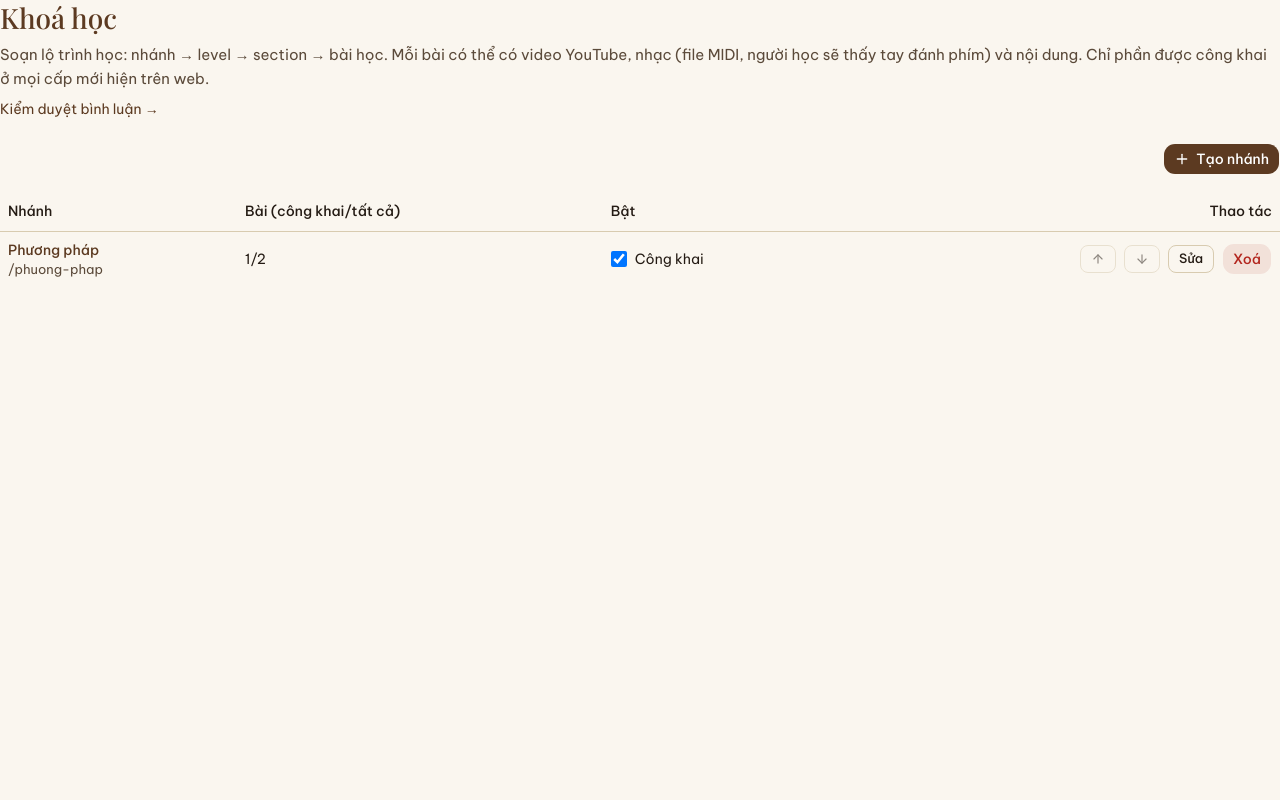
Scenario: Trang /courses (danh sách nhánh) › thiếu tên: lỗi tại trường, không gọi API; xoá nhánh còn level hiện thông báo 409 từ API
Click the button "Tạo nhánh". click: (1222, 159)
box: [1163,143,1279,175]
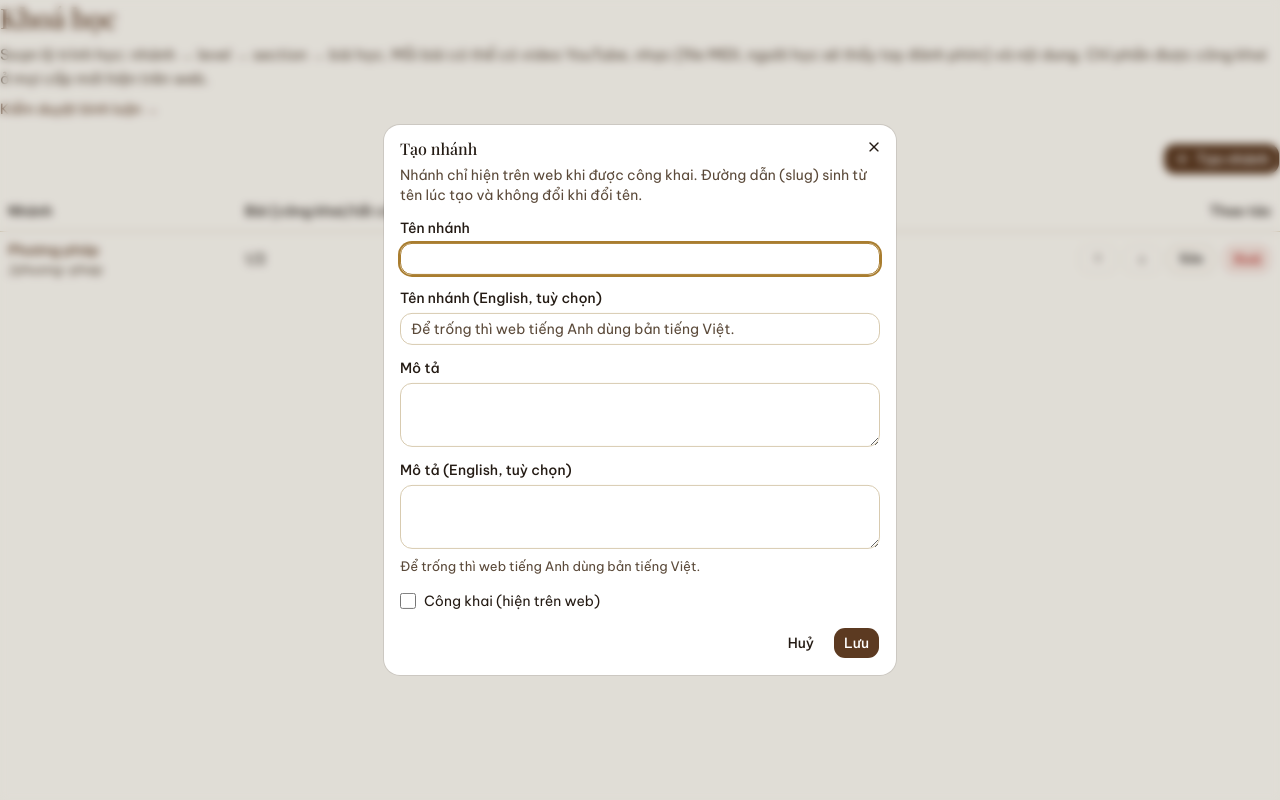
Click the button "Lưu". click: (856, 643)
box: [833,627,880,659]
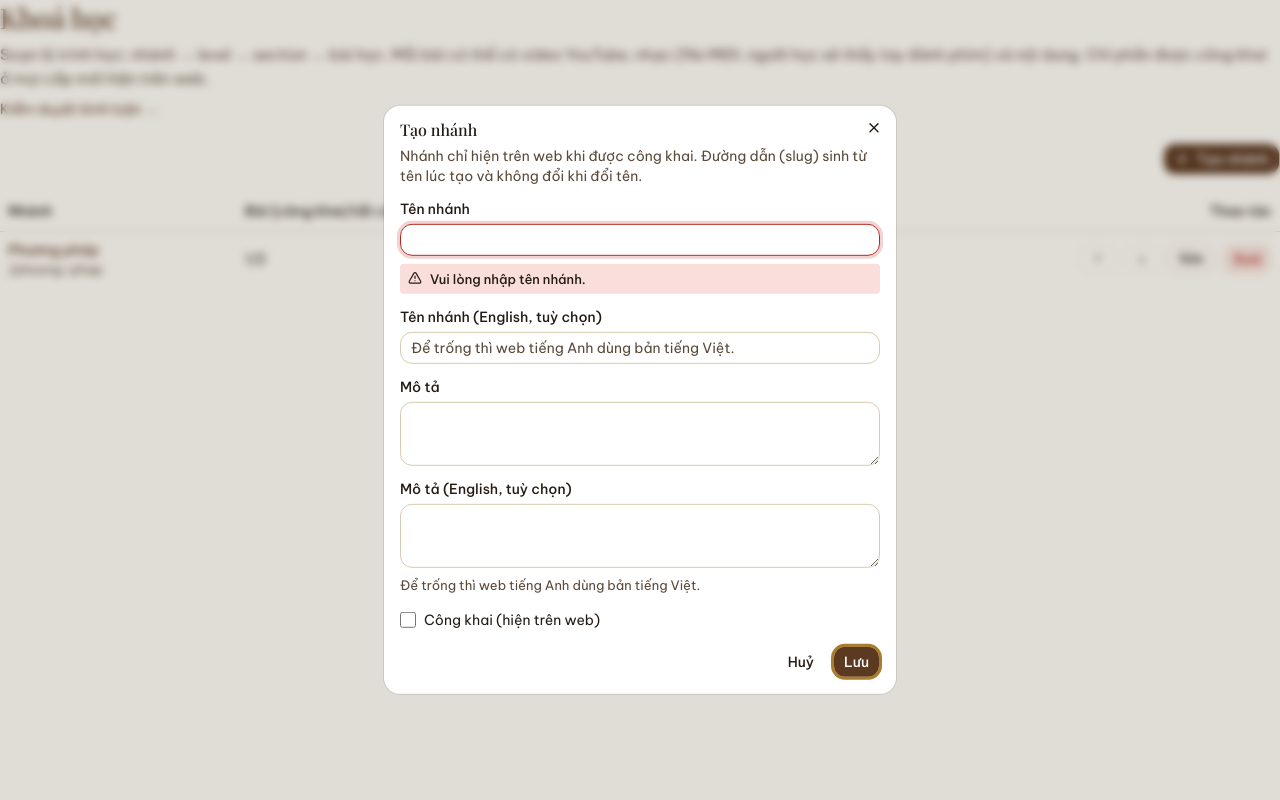
Expected: the text "Vui lòng nhập tên nhánh." is shown, [430,270,586,288]
Click the button "Huỷ". click: (801, 662)
box: [777,646,825,678]
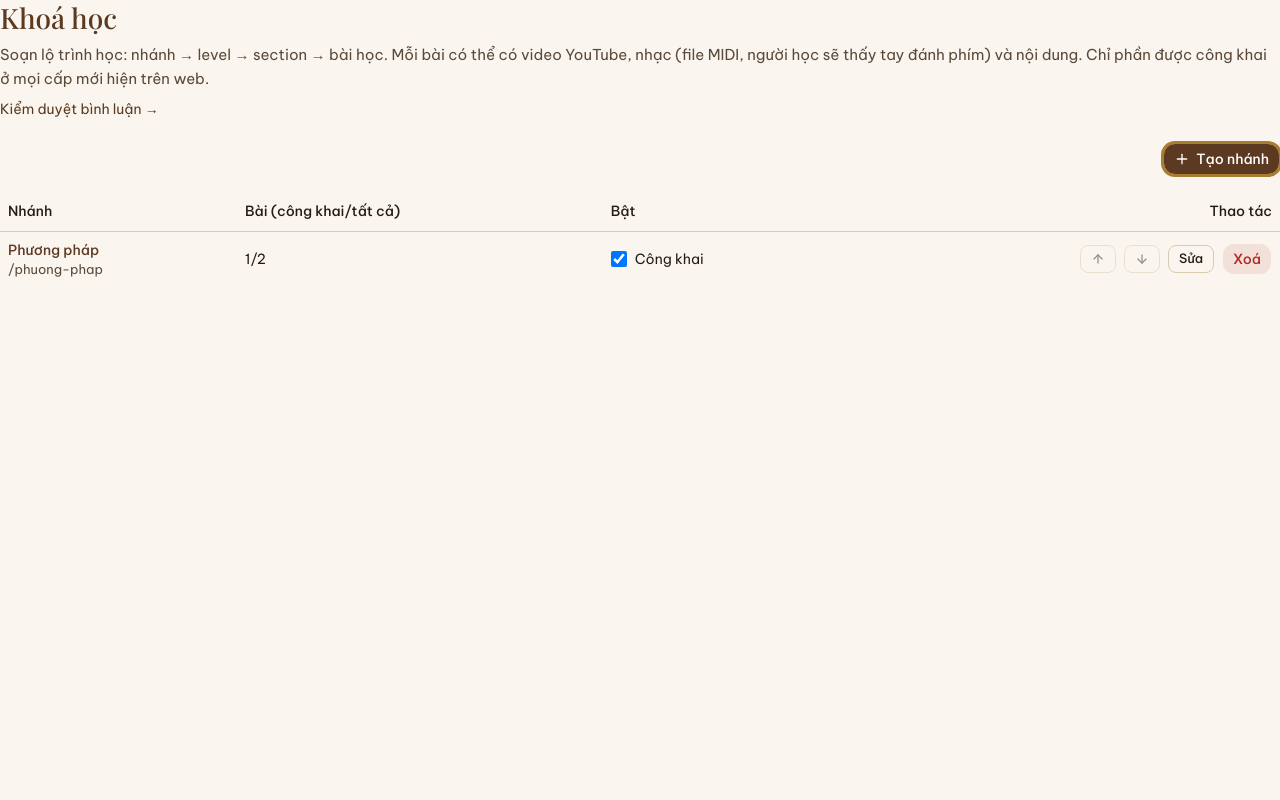
Click the button "Xoá". click: (1247, 259)
box: [1222,243,1272,275]
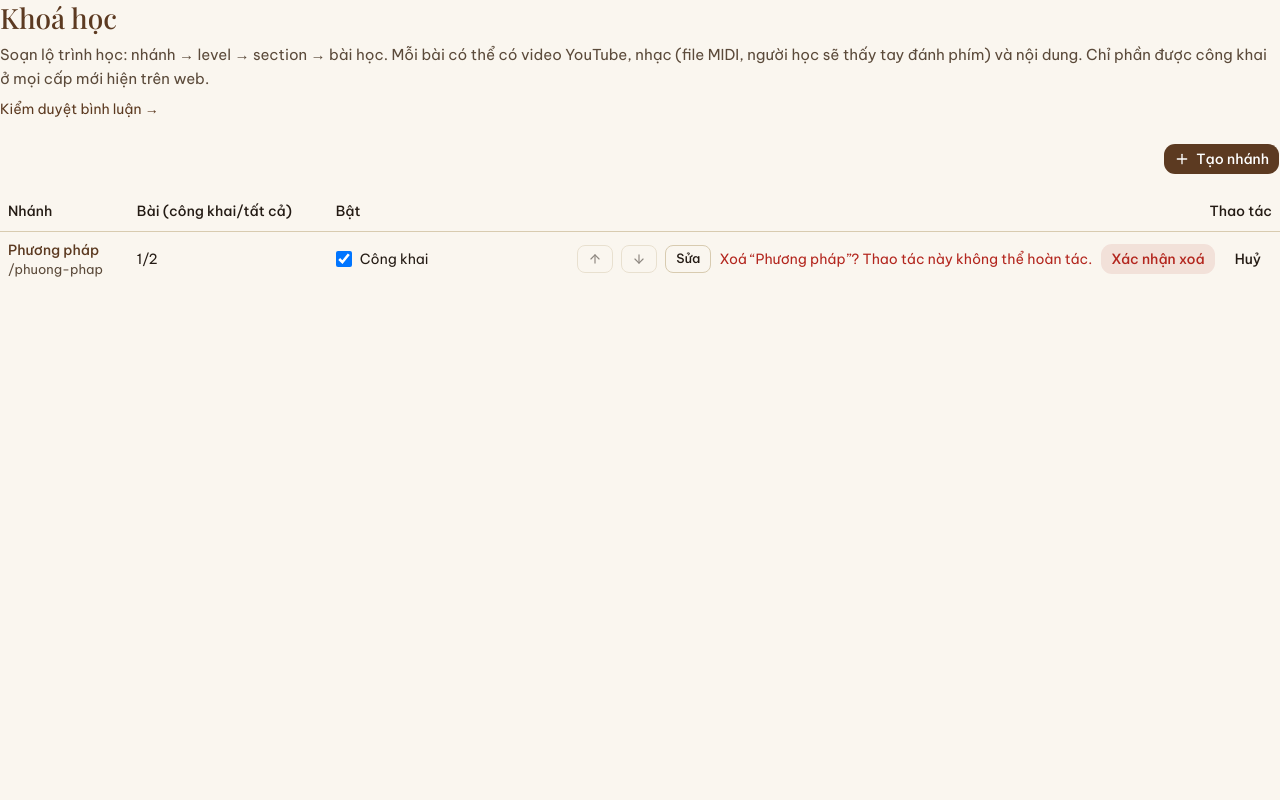
Click the button "Xác nhận xoá". click: (1158, 259)
box: [1100,243,1216,275]
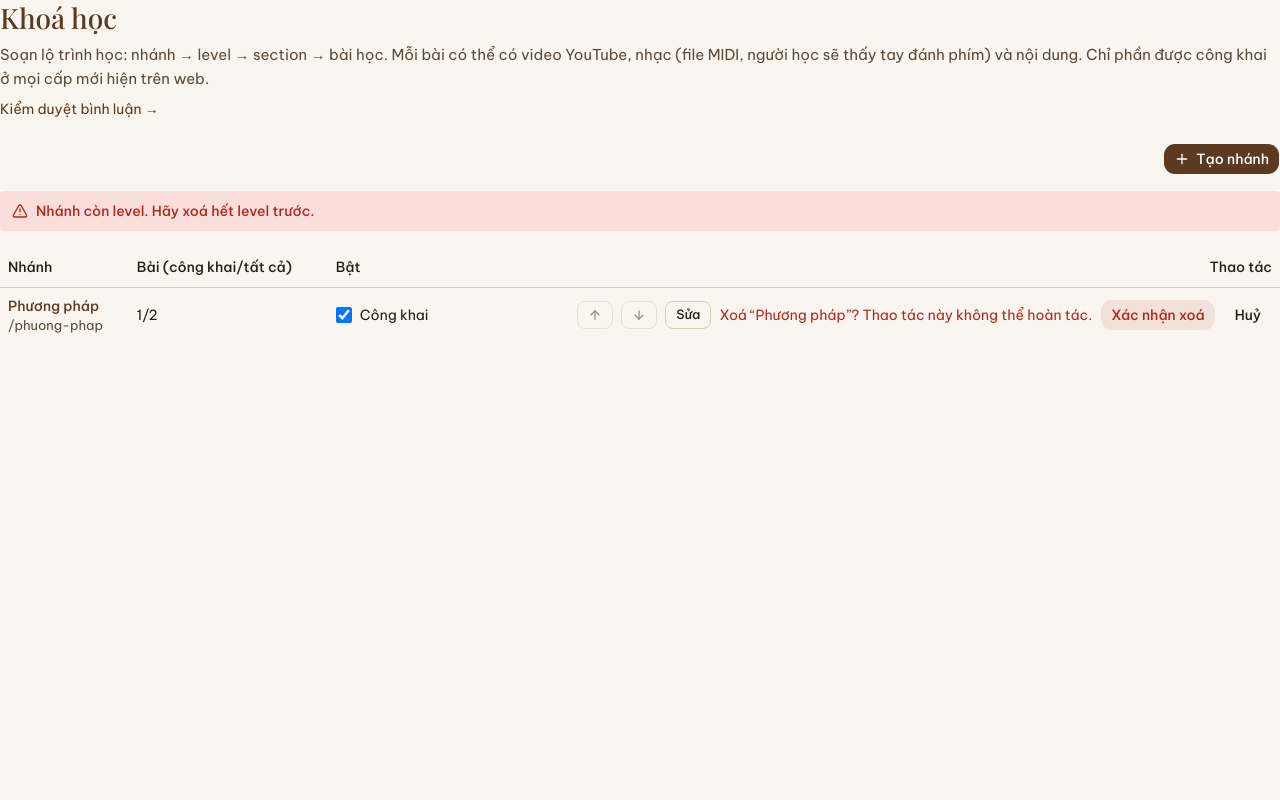
Expected: the text "Nhánh còn level. Hãy xoá hết level trước." is shown, [36,201,314,221]
